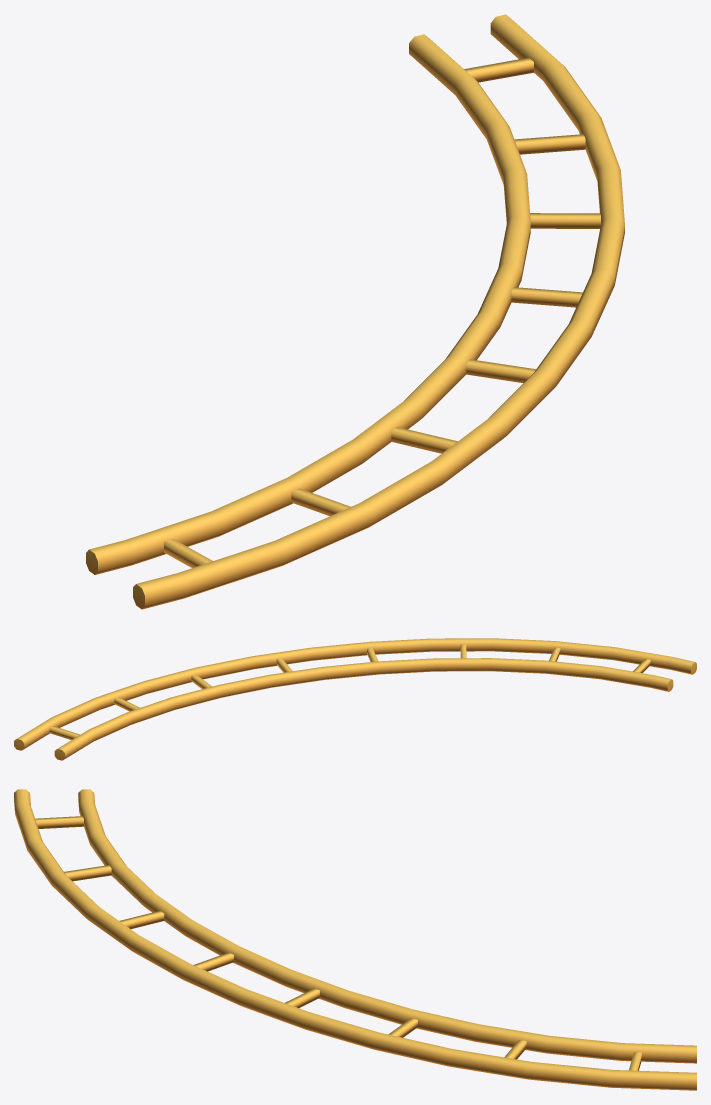
Rendered from kenney-coaster-coaster-mouse-corner-large.glb.
3 renders of one model, top to bottom at view 1: azimuth 30°, elevation 25°; view 2: azimuth 150°, elevation 25°; view 3: azimuth 270°, elevation 25°, orthographic. The views are drawn at different scales.
Parts seen in each view (by area): view 1: coaster-mouse-corner-large; view 2: coaster-mouse-corner-large; view 3: coaster-mouse-corner-large.
Boxes of the visible parts, left/top/right/bottom form: coaster-mouse-corner-large: left=86, top=14, right=624, bottom=609; coaster-mouse-corner-large: left=14, top=638, right=696, bottom=760; coaster-mouse-corner-large: left=14, top=789, right=696, bottom=1090.
Bounding box in the file's own units: 4.25 × 0.1001 × 4.25.
Materials: 1 (1 with a texture image).
